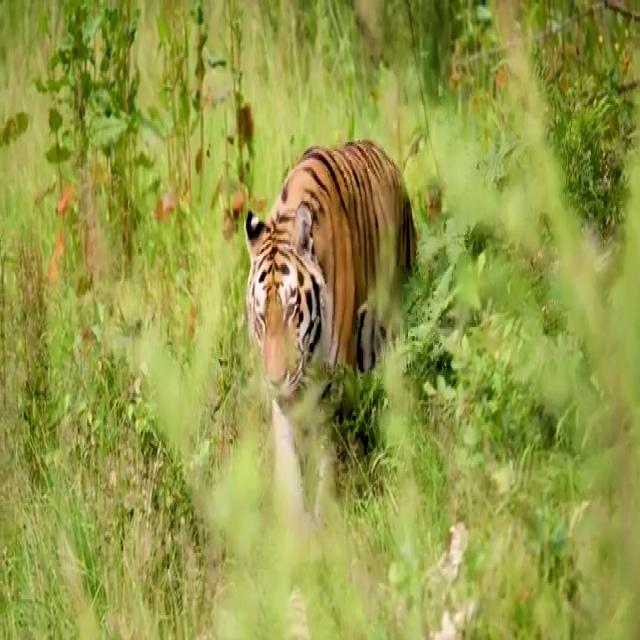tiger: (243, 135, 420, 516)
